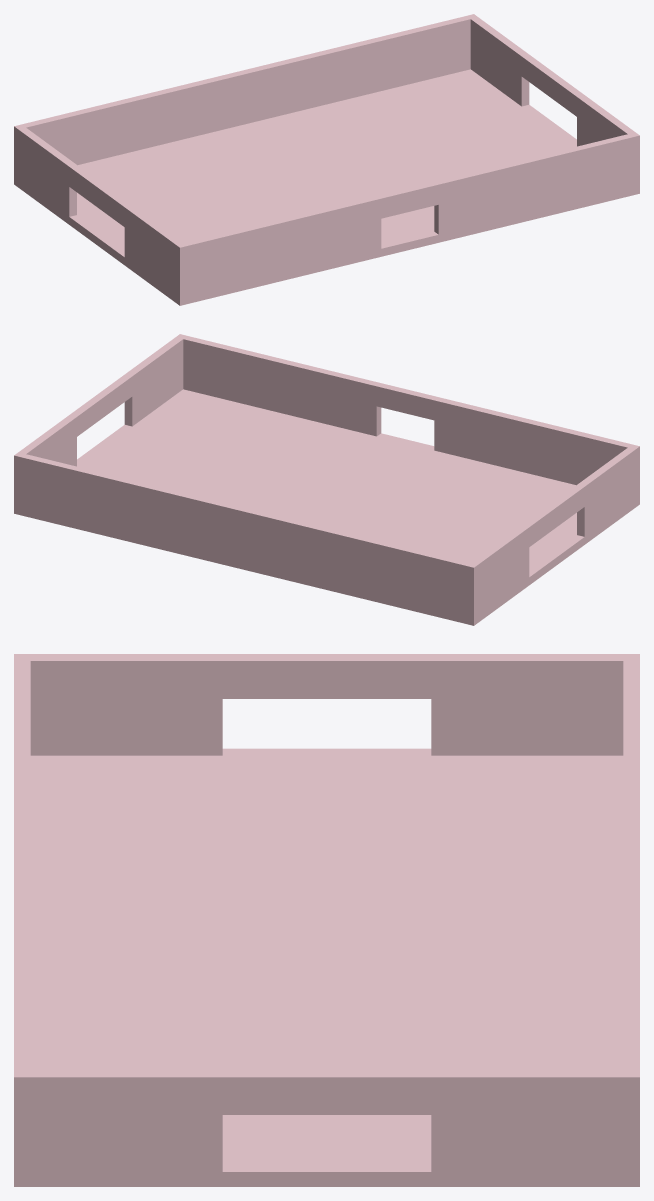
The model's file is tray.dae.
3 views of the same model, one above another, from view 1: azimuth 30°, elevation 25°; view 2: azimuth 150°, elevation 25°; view 3: azimuth 270°, elevation 25° (orthographic). The views are drawn at different scales.
Parts seen in each view (by area): view 1: node0; view 2: node0; view 3: node0.
Boxes of the visible parts, left/top/right/bottom form: node0: left=14, top=14, right=639, bottom=305; node0: left=14, top=334, right=639, bottom=625; node0: left=14, top=654, right=639, bottom=1186.
Size of the model in its own units: 0.24 by 0.15 by 0.029.
